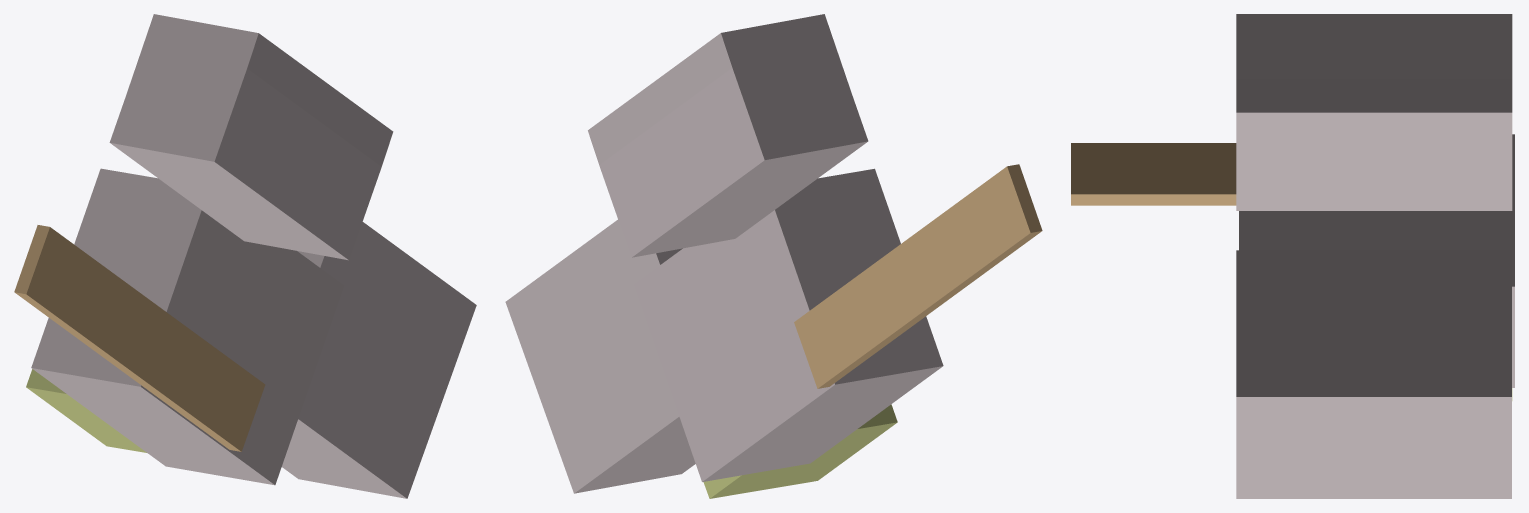
The picture shows the model from 3 angles, left to right: view 1: azimuth 30°, elevation 25°; view 2: azimuth 150°, elevation 25°; view 3: azimuth 270°, elevation 25°; orthographic projection. The views are drawn at different scales.
Visible parts, largest first — view 1: 0_2_0_2_1_1_1_1_1_1; view 2: 0_2_0_2_1_1_1_1_1_1; view 3: 0_2_0_2_1_1_1_1_1_1.
Boxes of the visible parts, x1,y1,x2,y2 form: 0_2_0_2_1_1_1_1_1_1: [14, 14, 476, 498]; 0_2_0_2_1_1_1_1_1_1: [505, 14, 1042, 498]; 0_2_0_2_1_1_1_1_1_1: [1071, 14, 1514, 498].
Bounding box in the file's own units: 21.09 × 25.54 × 24.13.
